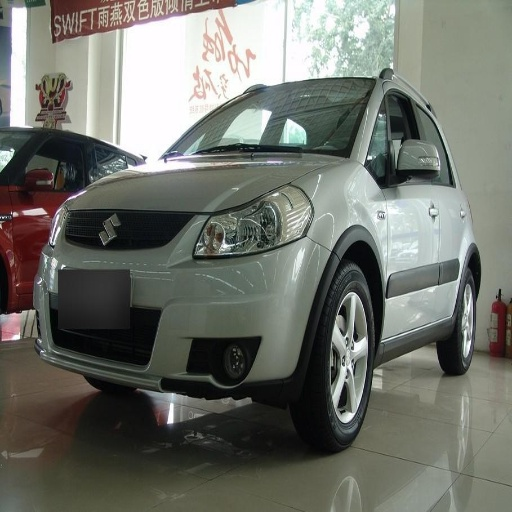front_bumper: (35, 206, 332, 422)
front_glass: (165, 80, 373, 156)
front_left_door: (367, 80, 439, 335)
